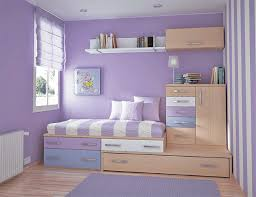Bed: (45, 94, 169, 142)
curtain: (34, 5, 68, 71)
